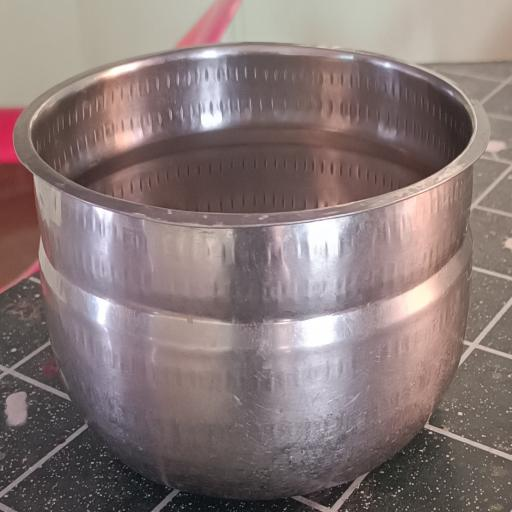vessel: (17, 45, 488, 498)
